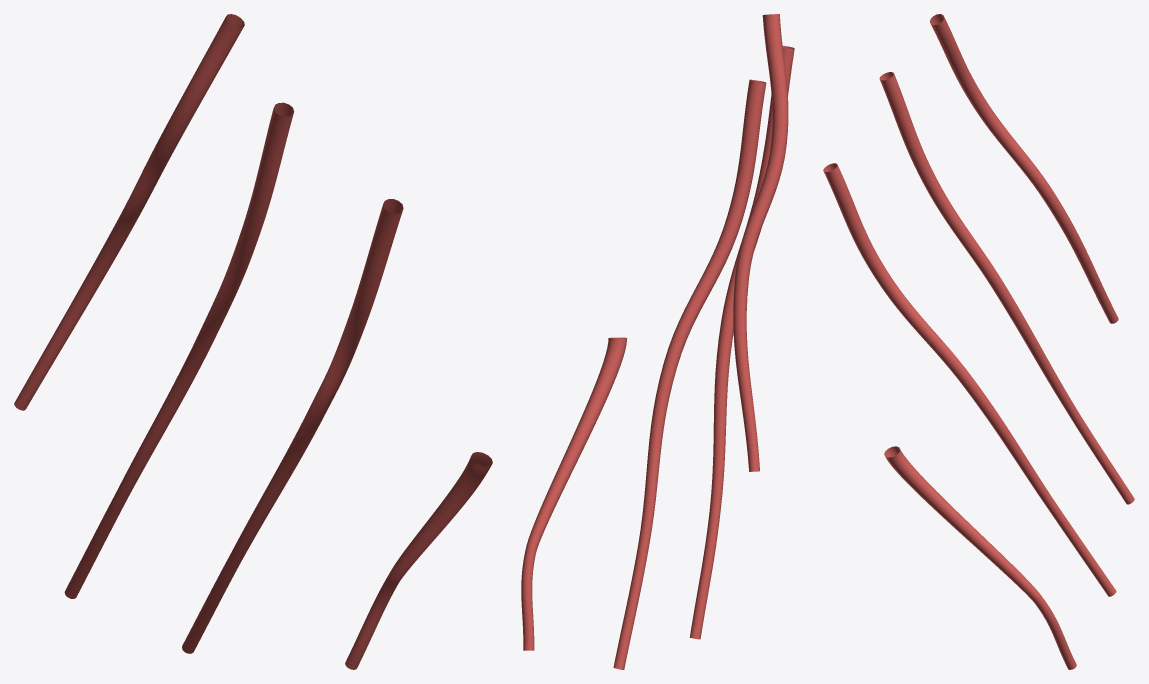
3 views of the same model, side by side, from view 1: azimuth 30°, elevation 25°; view 2: azimuth 150°, elevation 25°; view 3: azimuth 270°, elevation 25° (orthographic). The views are drawn at different scales.
Parts seen in each view (by area): view 1: 右侧跖背动脉; view 2: 右侧跖背动脉; view 3: 右侧跖背动脉.
Part boxes in pixels (x1,y1,x2,y2): 右侧跖背动脉: (14, 14, 492, 669); 右侧跖背动脉: (521, 14, 794, 669); 右侧跖背动脉: (823, 14, 1134, 669).
Bounding box in the file's own units: 0.0596 × 0.1303 × 0.0638.
